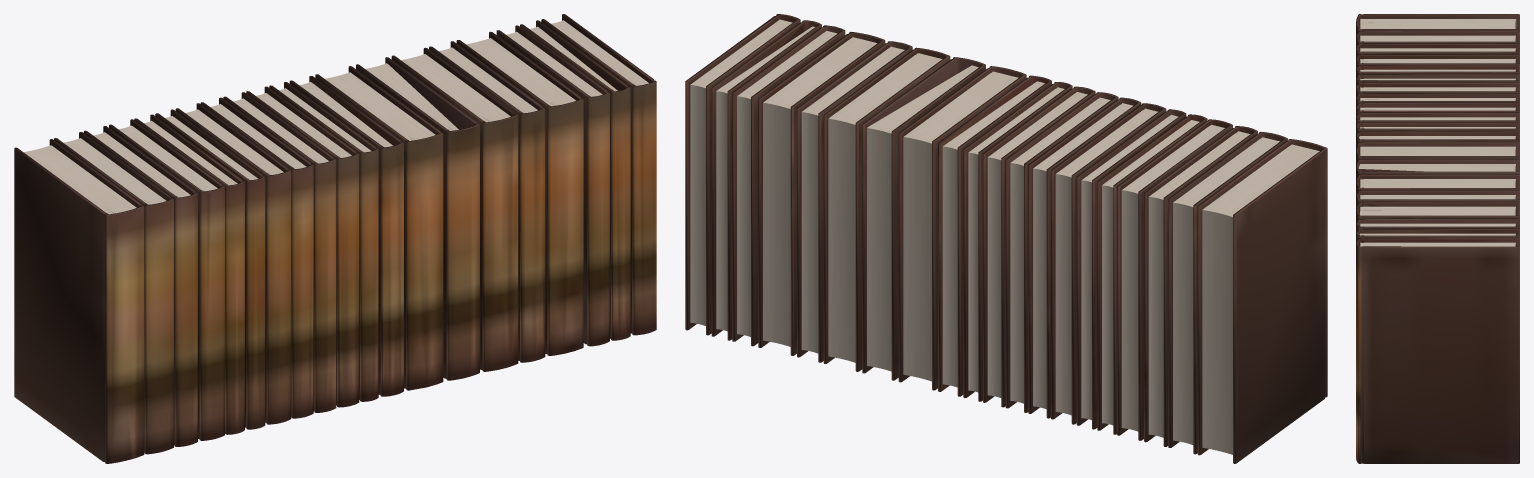
Rendered from relic-book-encyclopedia.glb.
3 renders of one model, left to right at view 1: azimuth 30°, elevation 25°; view 2: azimuth 150°, elevation 25°; view 3: azimuth 270°, elevation 25°, orthographic. The views are drawn at different scales.
Parts seen in each view (by area): view 1: book_encyclopedia_set_01_book01; view 2: book_encyclopedia_set_01_book01; view 3: book_encyclopedia_set_01_book01.
Part boxes in pixels (x1,y1,x2,y2): book_encyclopedia_set_01_book01: [14, 14, 656, 463]; book_encyclopedia_set_01_book01: [685, 14, 1327, 463]; book_encyclopedia_set_01_book01: [1356, 14, 1519, 463].
Size of the model in its own units: 0.5513 by 0.2374 by 0.1631.
2 materials, 2 textured.
